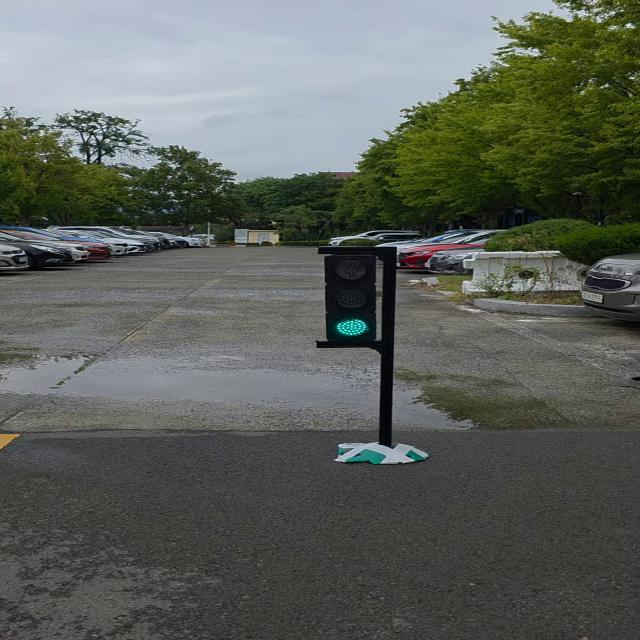green: (322, 246, 384, 346)
